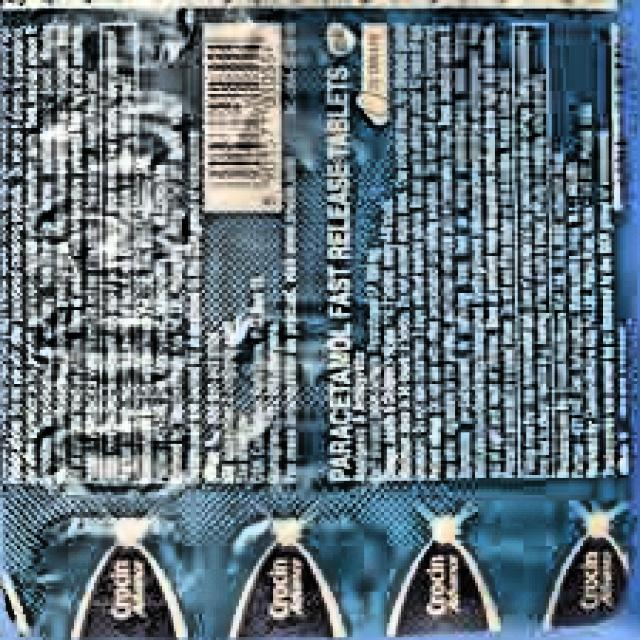Crocin: (0, 520, 634, 640)
